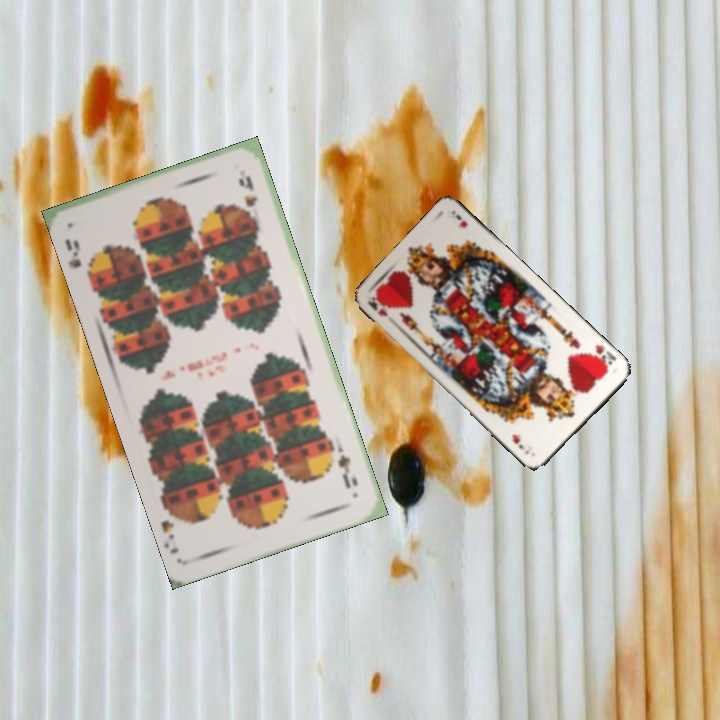HK: (585, 340, 619, 373), (364, 293, 390, 319)
S9: (60, 234, 96, 283), (334, 450, 360, 491)
